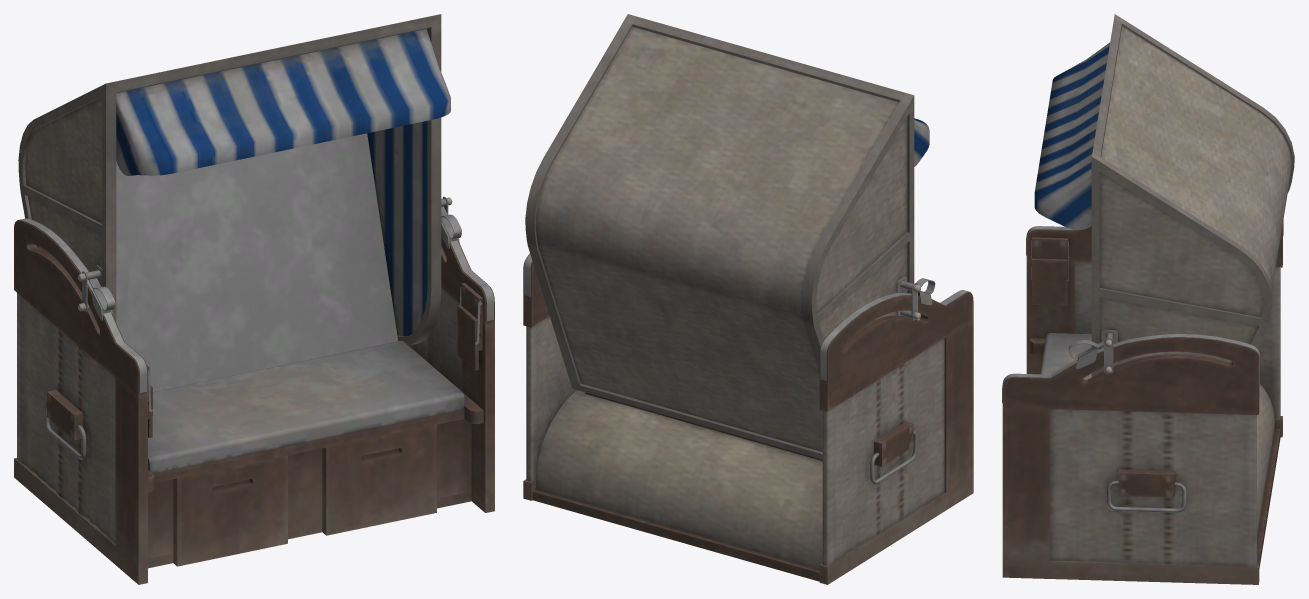
File: ItemSpot.fbx
The picture shows the model from 3 angles, left to right: view 1: azimuth 30°, elevation 25°; view 2: azimuth 150°, elevation 25°; view 3: azimuth 270°, elevation 25°; orthographic projection. The views are drawn at different scales.
Visible parts, largest first — view 1: ItemBox_BeachChair; view 2: ItemBox_BeachChair; view 3: ItemBox_BeachChair.
Boxes of the visible parts, bbox=[...] form: ItemBox_BeachChair: bbox=[14, 14, 494, 584]; ItemBox_BeachChair: bbox=[523, 14, 973, 584]; ItemBox_BeachChair: bbox=[1002, 14, 1294, 584].
Bounding box in the file's own units: 1.84 × 2.25 × 1.42.
Materials: 1 (1 with a texture image).
